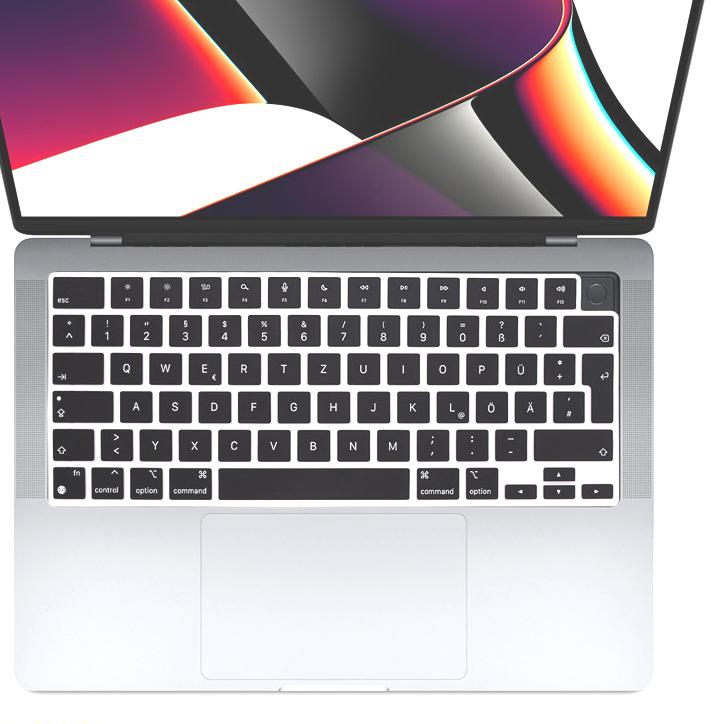0: (444, 312, 479, 346)
1: (88, 311, 123, 345)
2: (127, 312, 162, 346)
3: (166, 312, 201, 346)
4: (206, 312, 240, 346)
5: (245, 312, 281, 346)
6: (285, 312, 321, 346)
7: (325, 312, 360, 346)
8: (365, 312, 400, 346)
9: (405, 312, 439, 346)
a: (117, 388, 151, 421)
accent: (522, 312, 556, 346)
ae: (512, 388, 546, 422)
alt-left: (127, 465, 163, 500)
altgr-right: (463, 465, 498, 499)
b: (294, 427, 330, 460)
c: (215, 427, 250, 461)
caret: (50, 312, 84, 345)
comma: (414, 426, 448, 459)
d: (195, 388, 230, 422)
del: (561, 313, 614, 347)
e: (185, 350, 220, 384)
enter: (579, 351, 614, 422)
f: (235, 389, 270, 422)
g: (275, 388, 309, 422)
h: (314, 388, 349, 422)
hash: (550, 388, 583, 421)
i: (384, 350, 418, 383)
j: (355, 388, 389, 422)
k: (395, 388, 429, 422)
keyboard: (40, 268, 625, 511)
l: (434, 389, 468, 422)
less: (98, 426, 132, 460)
m: (374, 427, 409, 460)
minus: (492, 427, 526, 459)
n: (334, 427, 369, 460)
o: (424, 350, 458, 384)
oe: (473, 389, 507, 422)
p: (463, 350, 497, 384)
plus: (541, 350, 574, 384)
point: (453, 427, 488, 459)
q: (107, 349, 142, 384)
r: (225, 350, 260, 384)
s: (156, 389, 191, 422)
shift-left: (50, 427, 93, 461)
shift-lock: (51, 389, 113, 422)
shift-right: (531, 427, 612, 460)
space: (215, 465, 409, 499)
ss: (483, 312, 518, 346)
strg-left: (89, 465, 124, 499)
t: (265, 349, 299, 383)
tab: (51, 350, 103, 383)
u: (345, 350, 379, 384)
ue: (502, 350, 536, 384)
v: (255, 426, 290, 460)
w: (146, 349, 181, 384)
x: (176, 427, 211, 460)
y: (137, 427, 172, 460)
z: (305, 350, 340, 384)
